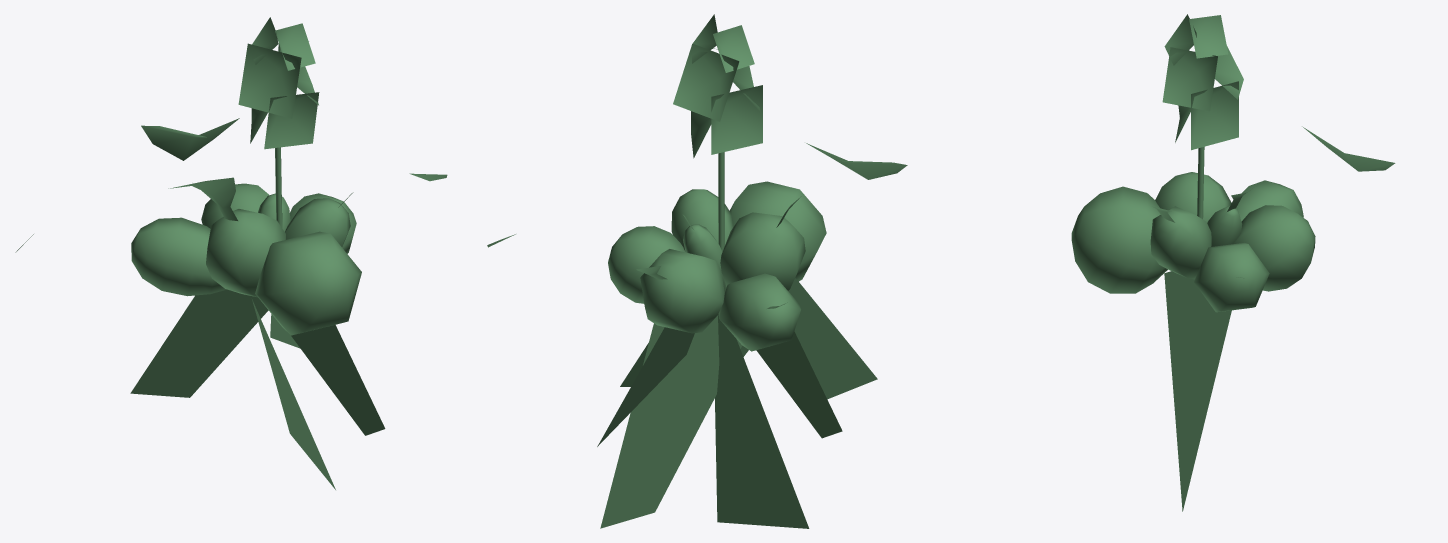
Rendered from water-hyacinth-1.glb.
3 renders of one model, left to right at view 1: azimuth 30°, elevation 25°; view 2: azimuth 150°, elevation 25°; view 3: azimuth 270°, elevation 25°, orthographic. The views are drawn at different scales.
Parts seen in each view (by area): view 1: water-hyacinth-1-mesh; view 2: water-hyacinth-1-mesh; view 3: water-hyacinth-1-mesh.
Boxes of the visible parts, x1,y1,x2,y2 form: water-hyacinth-1-mesh: (15, 17, 447, 489); water-hyacinth-1-mesh: (487, 14, 907, 528); water-hyacinth-1-mesh: (1071, 14, 1395, 511).
Bounding box in the file's own units: 71.55 × 87.54 × 79.96.
